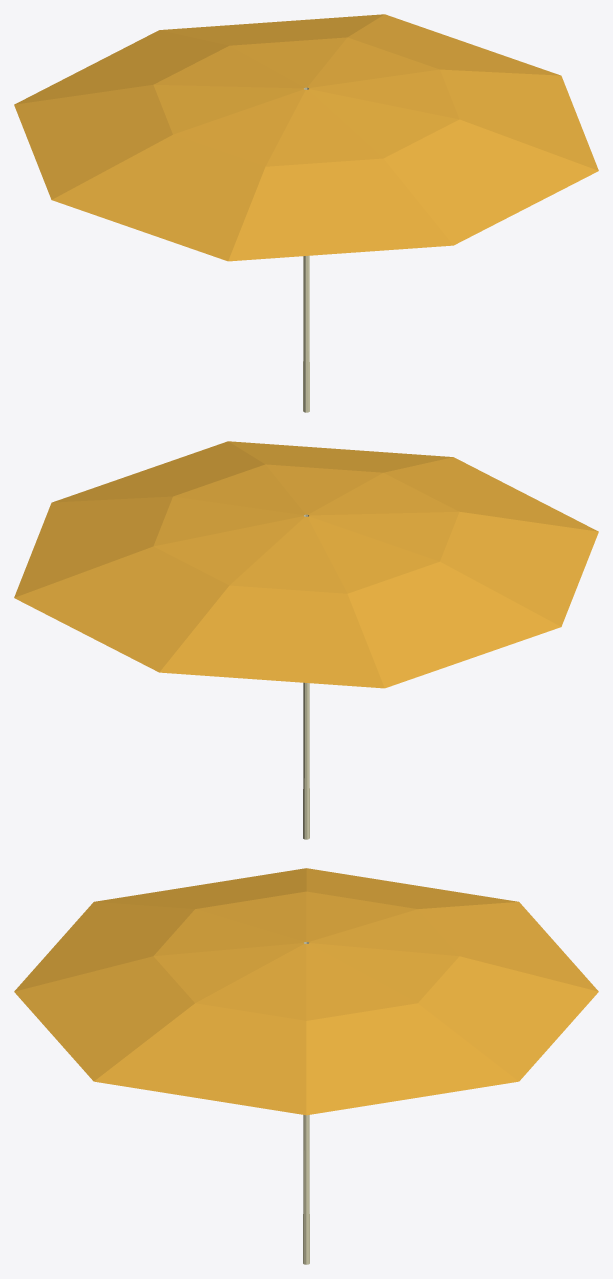
The model's file is umbrella02.fbx.
3 views of the same model, one above another, from view 1: azimuth 30°, elevation 25°; view 2: azimuth 150°, elevation 25°; view 3: azimuth 270°, elevation 25° (orthographic).
Visible parts, largest first — view 1: Cube.004; view 2: Cube.004; view 3: Cube.004.
Boxes of the visible parts, box(x1,y1,x2,y2) form: Cube.004: box(14, 14, 598, 412); Cube.004: box(14, 441, 598, 839); Cube.004: box(14, 868, 598, 1264).
Bounding box in the file's own units: 429 × 259 × 429.
